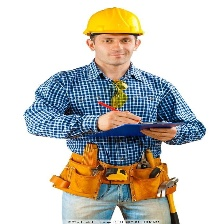helmet: (81, 6, 149, 39)
no-vest: (52, 67, 184, 169)
person: (24, 7, 205, 222)
